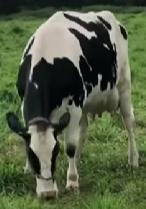cow: (16, 12, 139, 199)
